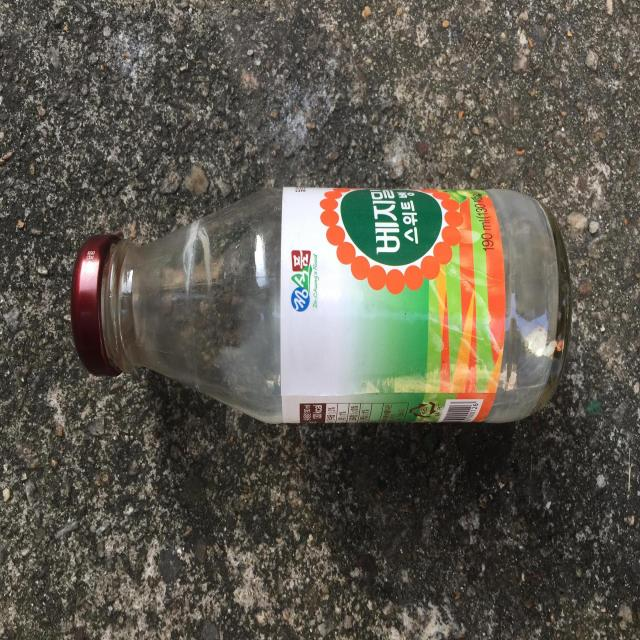glass: (72, 187, 572, 424)
